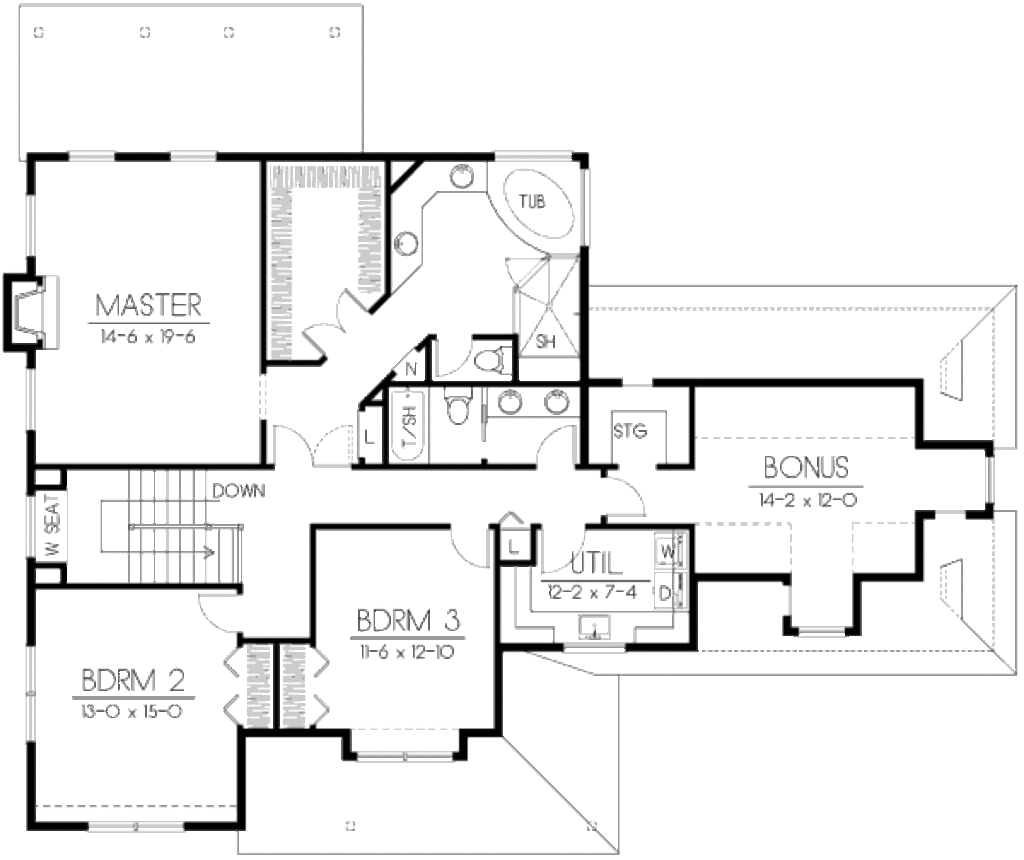door: (301, 288, 373, 359), (265, 423, 359, 467), (183, 584, 247, 640), (531, 528, 588, 575), (423, 329, 475, 380), (527, 424, 581, 473), (445, 525, 499, 573), (600, 471, 653, 519), (505, 247, 549, 287)
large_sink: (440, 372, 475, 425), (477, 341, 516, 381)
sink: (572, 613, 620, 648)
small_sink: (488, 391, 580, 417), (387, 215, 427, 269), (437, 155, 480, 193)
stairs: (87, 464, 252, 580)
window: (23, 647, 43, 747), (348, 747, 457, 764), (19, 365, 41, 443), (81, 821, 181, 837), (23, 195, 47, 257), (167, 149, 233, 167), (63, 149, 120, 167)
